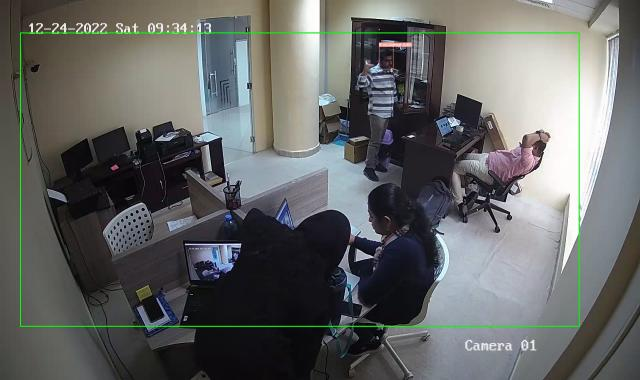no_hairnet: (306, 206, 350, 262), (367, 183, 410, 236), (378, 48, 395, 70)
